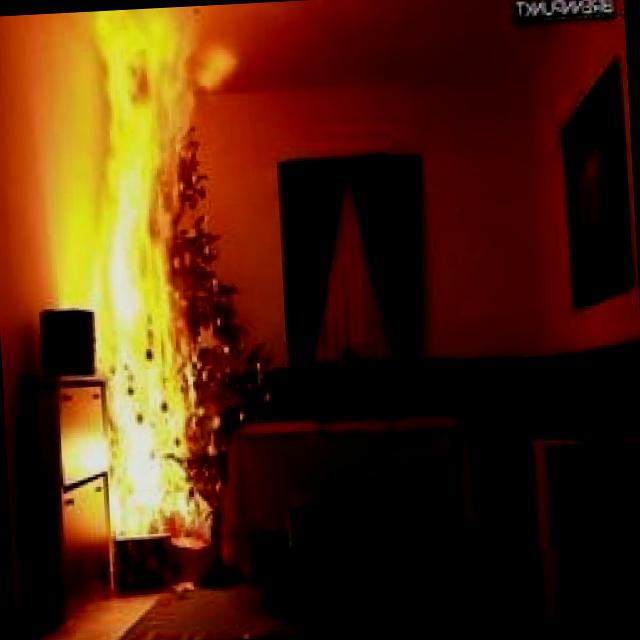fire: (0, 6, 290, 565)
